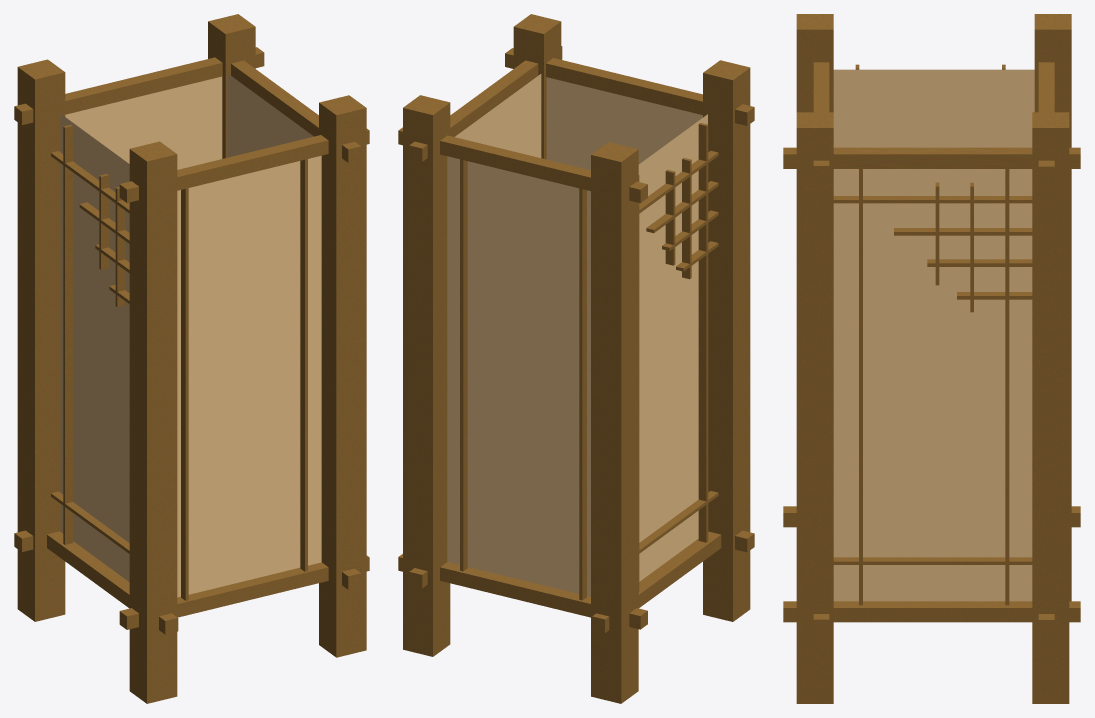
File: NNJ0310006.fbx
3 renders of one model, left to right at view 1: azimuth 30°, elevation 25°; view 2: azimuth 150°, elevation 25°; view 3: azimuth 270°, elevation 25°, orthographic. The views are drawn at different scales.
Visible parts, largest first — view 1: smNNJ0310006; view 2: smNNJ0310006; view 3: smNNJ0310006.
Boxes of the visible parts, box(x1,y1,x2,y2) form: smNNJ0310006: box(14, 14, 369, 703); smNNJ0310006: box(398, 14, 754, 703); smNNJ0310006: box(783, 14, 1080, 703).
Size of the model in its own units: 77.81 by 166 by 77.52.
Materials: 1 (1 with a texture image).
